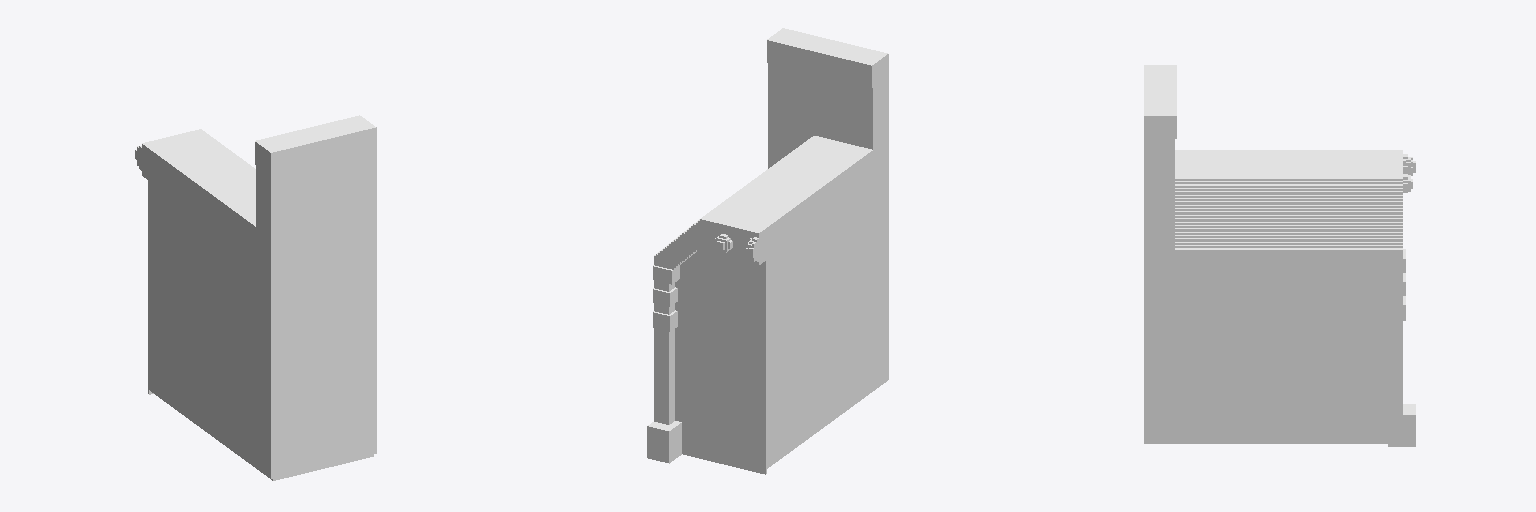
The model's file is gym-door-0.obj.
The picture shows the model from 3 angles: view 1: azimuth 30°, elevation 25°; view 2: azimuth 150°, elevation 25°; view 3: azimuth 270°, elevation 25°; orthographic projection.
Visible parts, largest first — view 1: object 1; view 2: object 1; view 3: object 1.
Part boxes in pixels (x1,y1,x2,y2): object 1: (135,115,376,480); object 1: (647,28,888,474); object 1: (1144,65,1415,446).
Bounding box in the file's own units: 4.8 × 14.4 × 10.7.